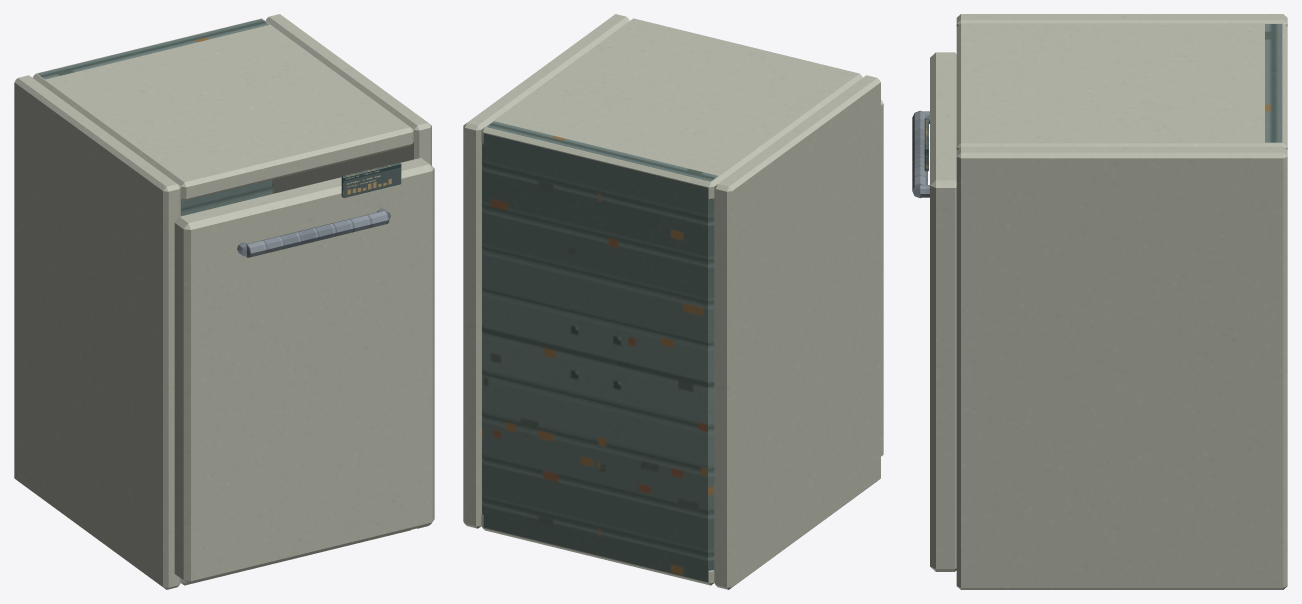
The model's file is MD_55_Dishwasher.fbx.
The picture shows the model from 3 angles, left to right: view 1: azimuth 30°, elevation 25°; view 2: azimuth 150°, elevation 25°; view 3: azimuth 270°, elevation 25°; orthographic projection. The views are drawn at different scales.
Visible parts, largest first — view 1: MD_55_Dishwasher_hinged_dishwasher_door, MD_55_Dishwasher_dishwasher_side, MD_55_Dishwasher_dishwasher_end.001, MD_55_Dishwasher_dishwasher_side.001, MD_55_Dishwasher_dishwasher_back, MD_55_Dishwasher_dishwasher_pull_grip, MD_55_Dishwasher_status_display; view 2: MD_55_Dishwasher_dishwasher_back, MD_55_Dishwasher_dishwasher_side, MD_55_Dishwasher_dishwasher_end.001, MD_55_Dishwasher_dishwasher_side.001, MD_55_Dishwasher_hinged_dishwasher_door, MD_55_Dishwasher_dishwasher_end; view 3: MD_55_Dishwasher_dishwasher_side.001, MD_55_Dishwasher_dishwasher_end.001, MD_55_Dishwasher_hinged_dishwasher_door, MD_55_Dishwasher_dishwasher_side, MD_55_Dishwasher_dishwasher_back, MD_55_Dishwasher_dishwasher_pull_grip.
Part boxes in pixels (x1,y1,x2,y2): MD_55_Dishwasher_hinged_dishwasher_door: [174, 158, 434, 583]; MD_55_Dishwasher_dishwasher_side: [14, 75, 180, 589]; MD_55_Dishwasher_dishwasher_end.001: [32, 18, 413, 200]; MD_55_Dishwasher_dishwasher_side.001: [265, 14, 431, 528]; MD_55_Dishwasher_dishwasher_back: [37, 19, 273, 216]; MD_55_Dishwasher_dishwasher_pull_grip: [246, 210, 389, 257]; MD_55_Dishwasher_status_display: [341, 162, 401, 197]; MD_55_Dishwasher_dishwasher_back: [482, 121, 717, 582]; MD_55_Dishwasher_dishwasher_side: [714, 75, 880, 589]; MD_55_Dishwasher_dishwasher_end.001: [481, 18, 862, 199]; MD_55_Dishwasher_dishwasher_side.001: [463, 14, 629, 528]; MD_55_Dishwasher_hinged_dishwasher_door: [881, 100, 883, 456]; MD_55_Dishwasher_dishwasher_end: [481, 514, 714, 585]; MD_55_Dishwasher_dishwasher_side.001: [956, 146, 1287, 589]; MD_55_Dishwasher_dishwasher_end.001: [956, 23, 1287, 150]; MD_55_Dishwasher_hinged_dishwasher_door: [930, 52, 956, 571]; MD_55_Dishwasher_dishwasher_side: [956, 14, 1287, 26]; MD_55_Dishwasher_dishwasher_back: [1265, 24, 1282, 142]; MD_55_Dishwasher_dishwasher_pull_grip: [912, 110, 927, 198].
Bounding box in the file's own units: 0.6 × 0.86 × 0.669.
Materials: 4 (4 with a texture image).
